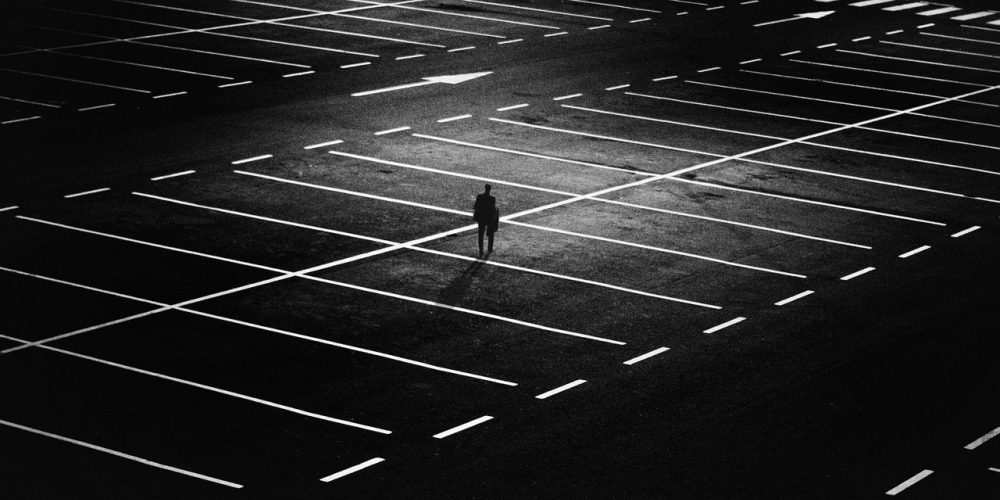empty_space: (28, 301, 518, 426), (3, 338, 395, 482), (173, 272, 631, 385), (293, 234, 728, 350), (402, 210, 813, 310), (10, 181, 418, 275), (486, 184, 879, 278), (218, 145, 600, 227), (581, 166, 951, 249), (128, 167, 506, 245), (3, 211, 296, 310), (661, 147, 1000, 226), (329, 130, 673, 201), (412, 111, 739, 177), (1, 262, 189, 352)
